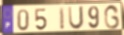0: (16, 9, 31, 32)
5: (34, 8, 48, 31)
9: (87, 5, 101, 30)
G: (104, 4, 121, 30)
I: (59, 7, 66, 31)
U: (67, 5, 85, 31)
